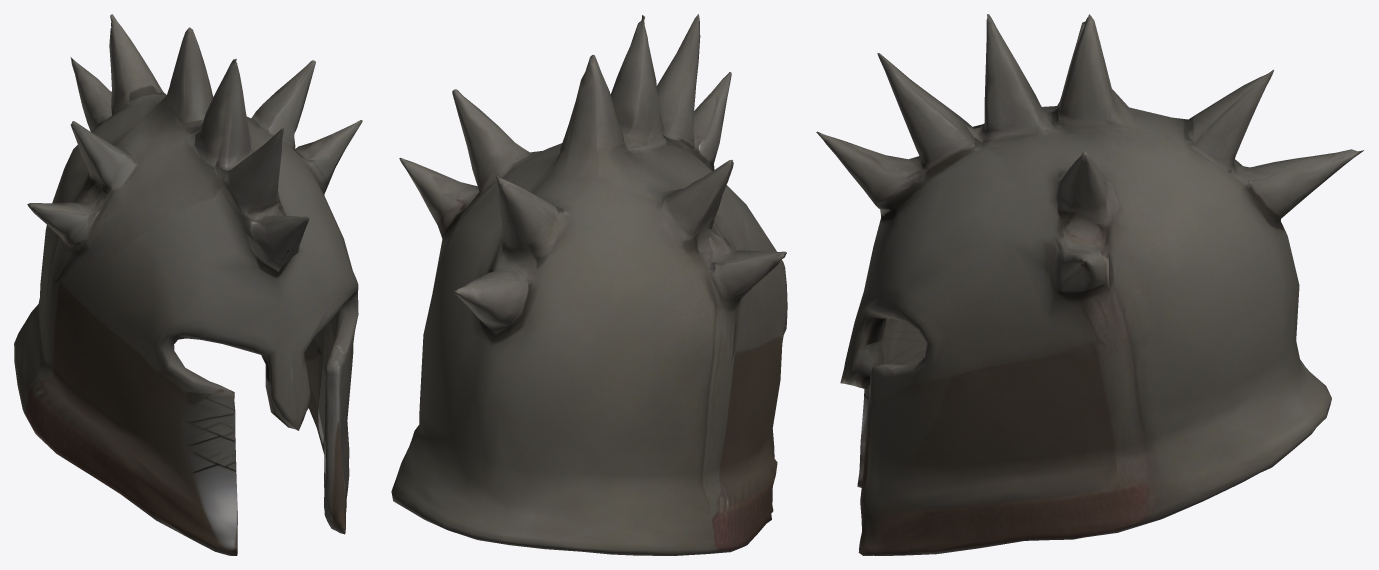
The model's file is spiked-helmet.glb.
3 renders of one model, left to right at view 1: azimuth 30°, elevation 25°; view 2: azimuth 150°, elevation 25°; view 3: azimuth 270°, elevation 25°, orthographic. The views are drawn at different scales.
Bounding box in the file's own units: 1.54 × 1.97 × 1.92.
Materials: 1 (1 with a texture image).
